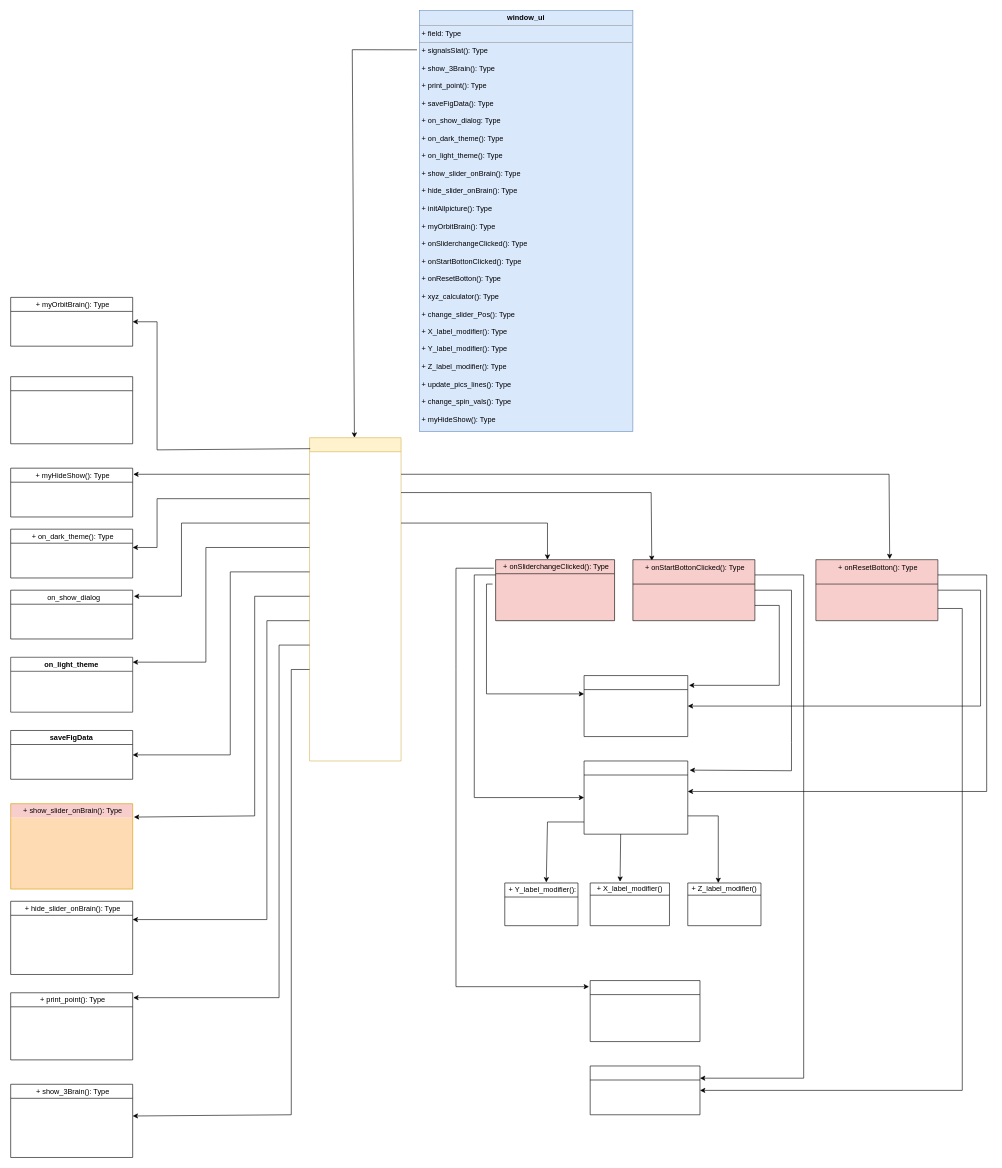
The diagram is 1002 pixels wide and 1168 high, and some of its shapes have lost their labels. Here are the shapes that lost their labels. From the top down, the centre of each, then its label:
At pixel 71 410: "+ initAllpicture(): Type".
At pixel 355 599: "+ signalsSlat(): Type".
At pixel 635 706: "+ xyz_calculator(): Type".
At pixel 635 797: "+ update_pics_lines(): Type".
At pixel 645 1011: "+ change_spin_vals(): Type".
At pixel 645 1090: "+ change_slider_Pos(): Type".
